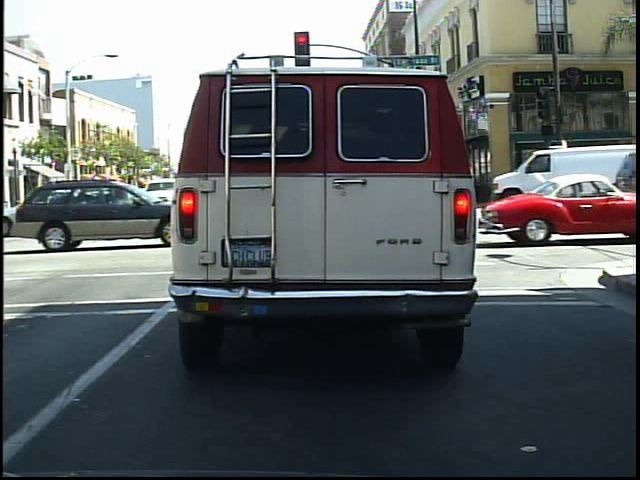person: (586, 142, 610, 210), (538, 152, 562, 211), (514, 155, 535, 207)
